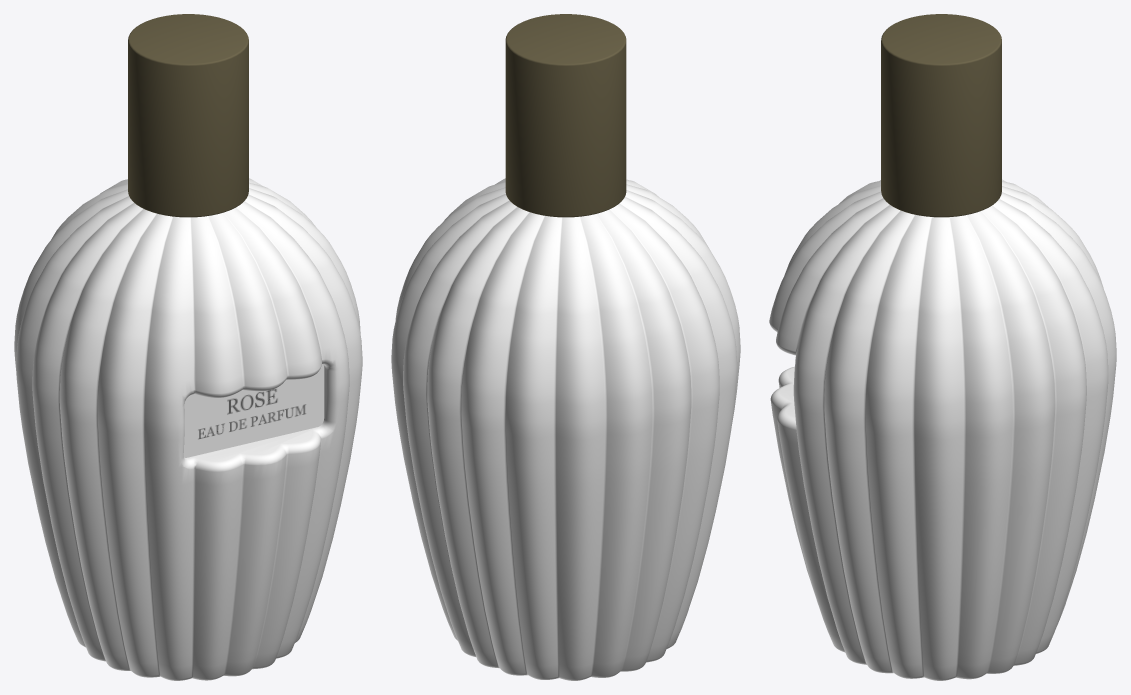
Rendered from bottle.glb.
The picture shows the model from 3 angles, left to right: view 1: azimuth 30°, elevation 25°; view 2: azimuth 150°, elevation 25°; view 3: azimuth 270°, elevation 25°; orthographic projection.
Parts seen in each view (by area): view 1: Mesh5_Color_A01_0, Mesh3_Color_E04_0, Mesh6_Color_A05_0; view 2: Mesh5_Color_A01_0, Mesh3_Color_E04_0; view 3: Mesh5_Color_A01_0, Mesh3_Color_E04_0.
Boxes of the visible parts, box(x1,y1,x2,y2) form: Mesh5_Color_A01_0: box(14, 178, 362, 680); Mesh3_Color_E04_0: box(128, 14, 248, 217); Mesh6_Color_A05_0: box(185, 371, 319, 452); Mesh5_Color_A01_0: box(391, 178, 740, 680); Mesh3_Color_E04_0: box(505, 14, 626, 217); Mesh5_Color_A01_0: box(769, 179, 1116, 680); Mesh3_Color_E04_0: box(881, 14, 1001, 217).
Size of the model in its own units: 0.0579 by 0.1089 by 0.0574.
5 materials, 1 textured.
